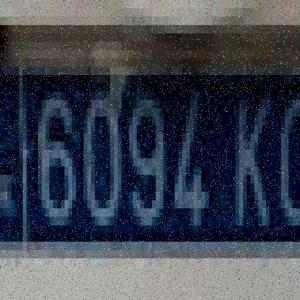Plate: (0, 44, 300, 273)
